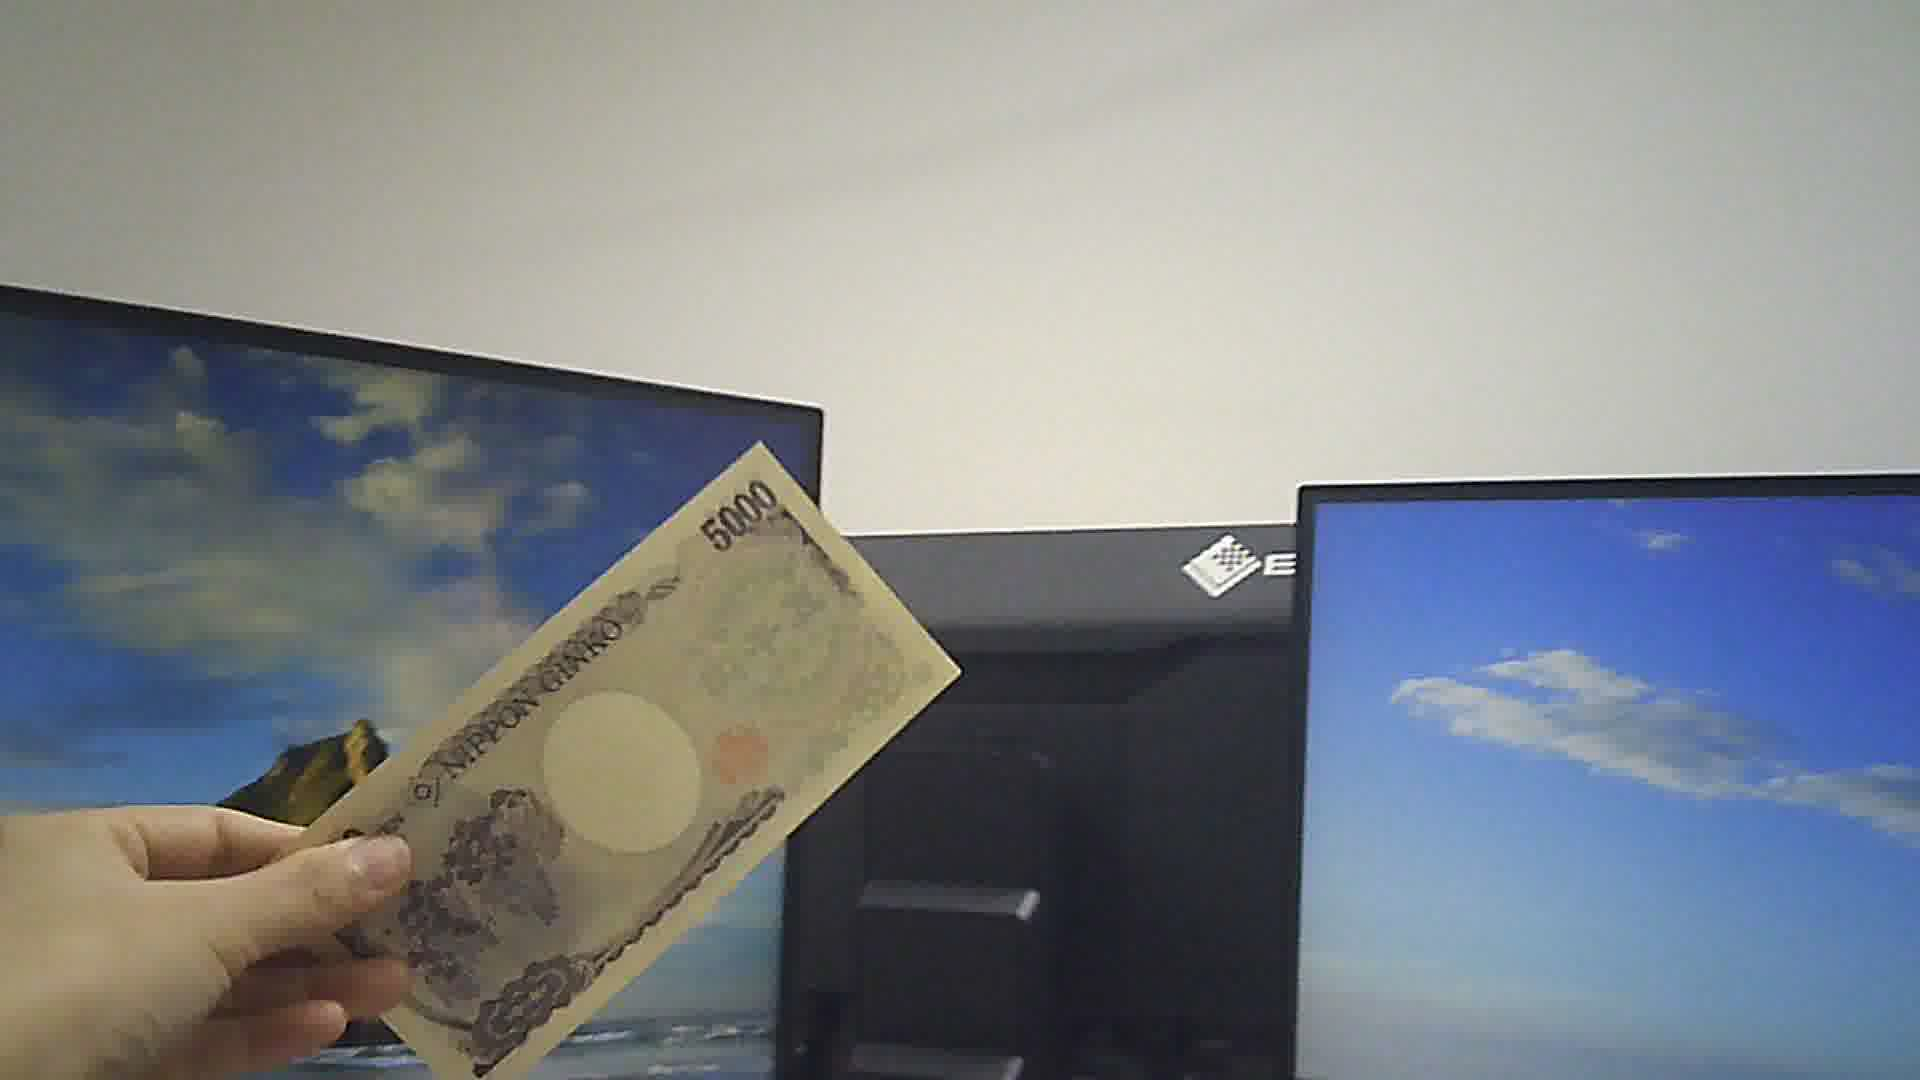5,000 Yen: (276, 450, 942, 1079)
